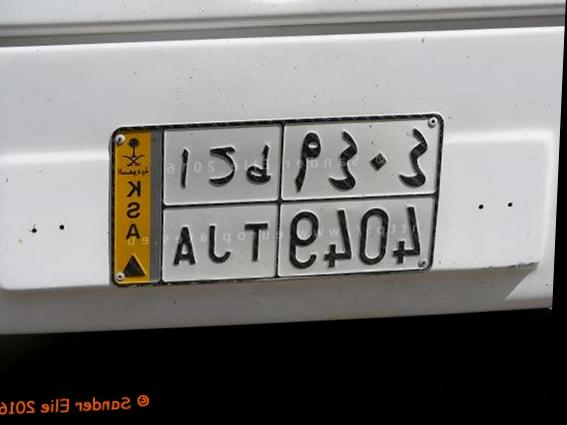License_Plate: (97, 107, 448, 295)
